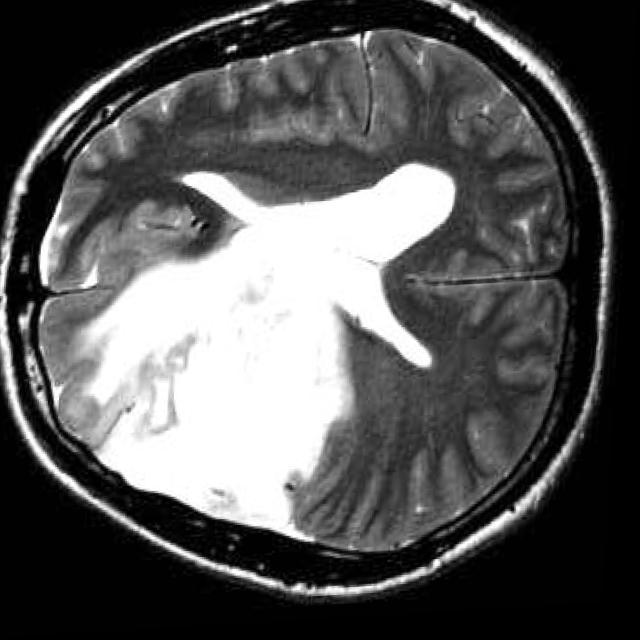Tumor: (85, 248, 341, 548)
